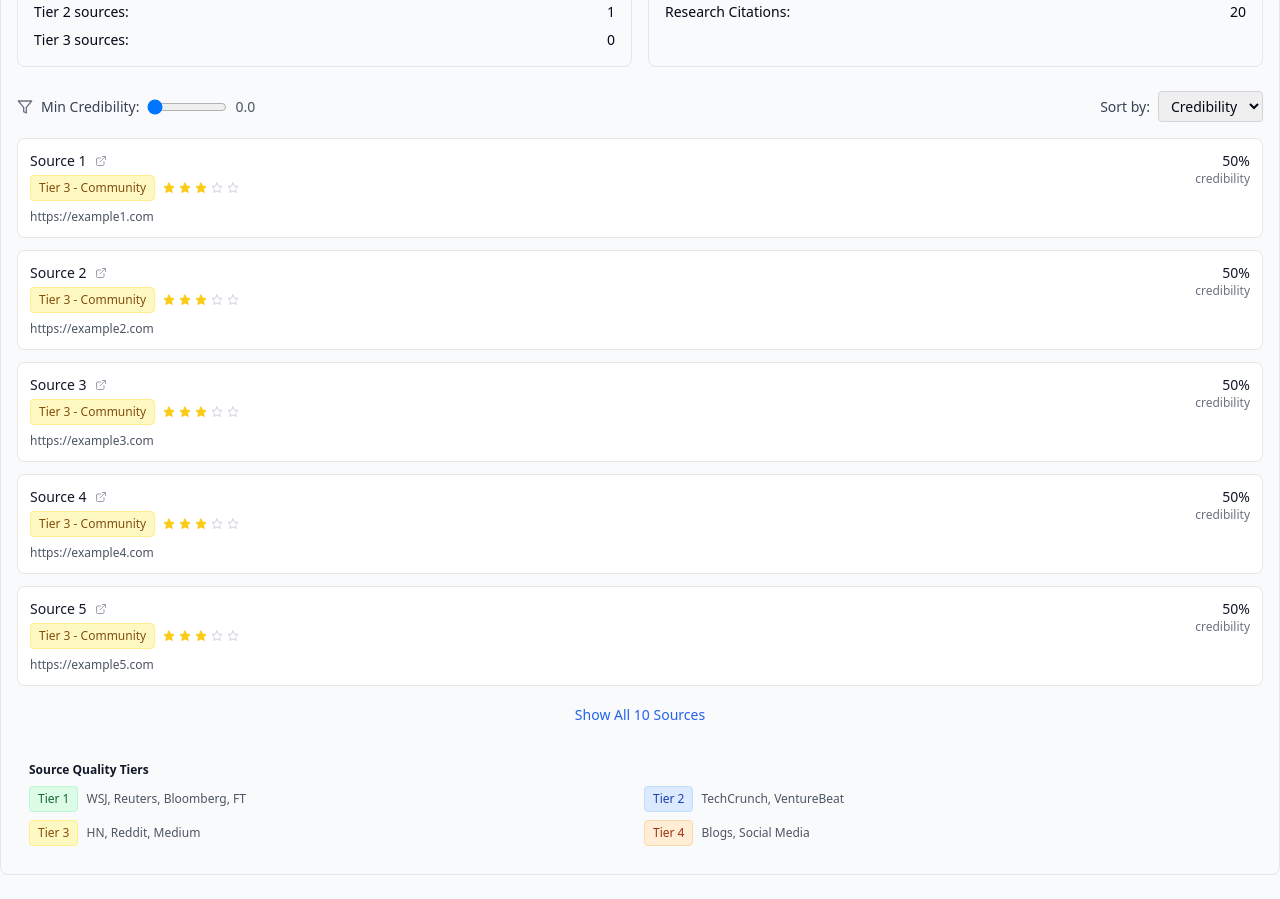
Test: SourceCitations Component › shows/hides all sources
(page scrolled)
Click the button "Show All 10 Sources": (640, 715) [575, 705, 705, 725]
(page scrolled)
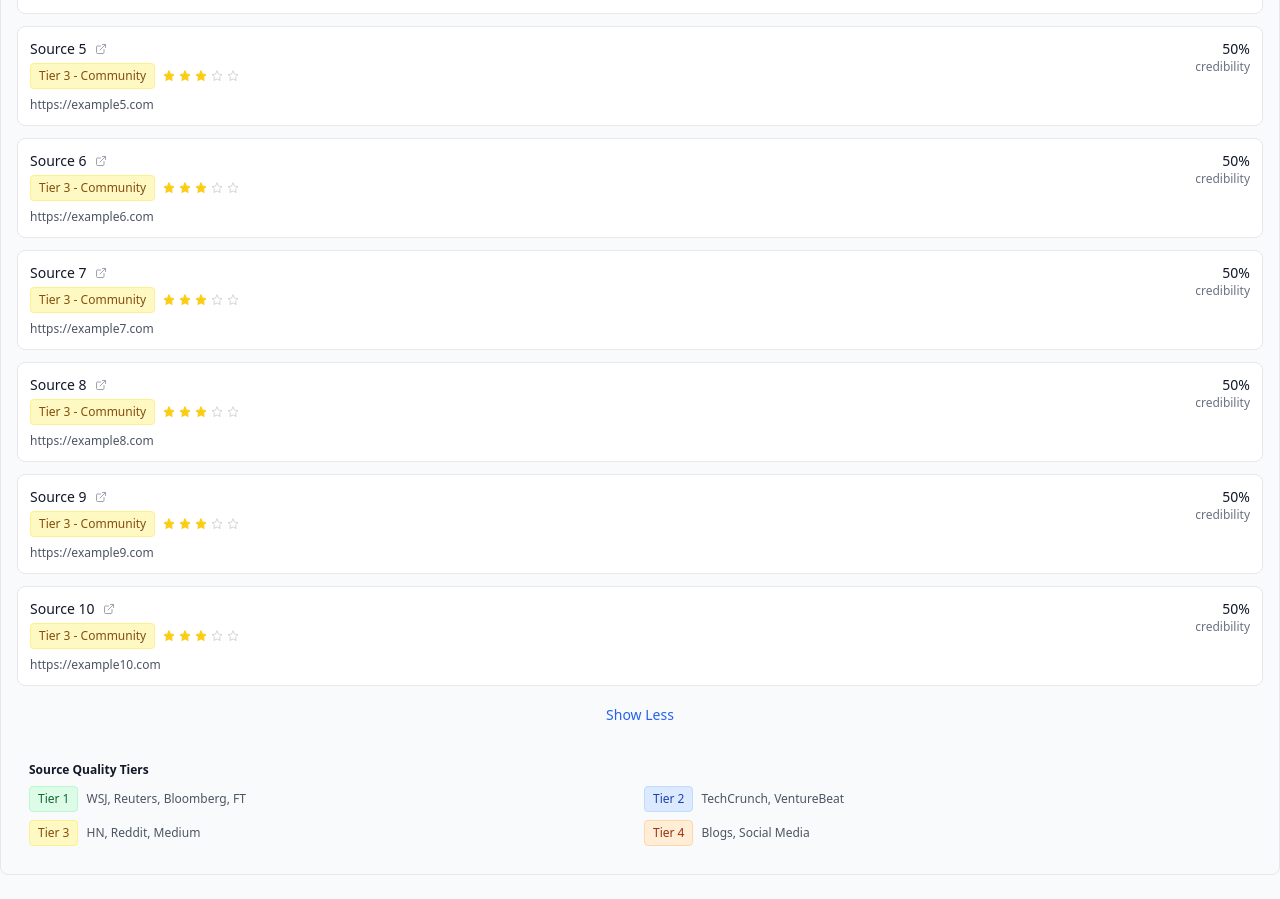
Check: the button "Show Less" is shown, box [606, 705, 674, 725]
